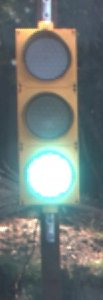Green: (8, 16, 83, 222)
